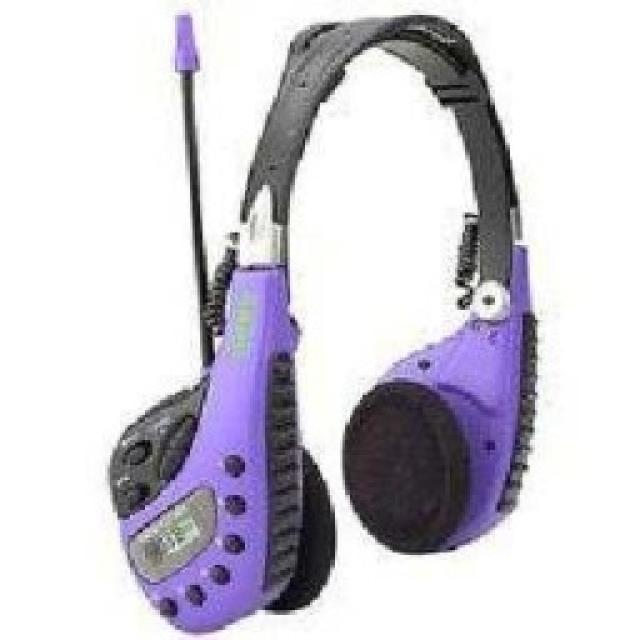kulaklik: (102, 2, 542, 640)
